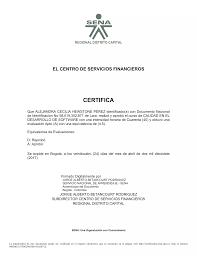firma: (68, 212, 129, 232)
institucion: (44, 61, 149, 76)
